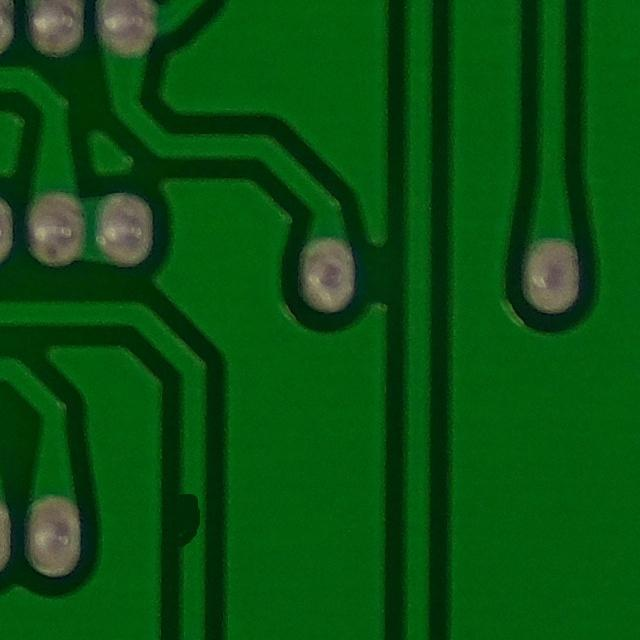mouse_bite: (162, 475, 224, 572)
